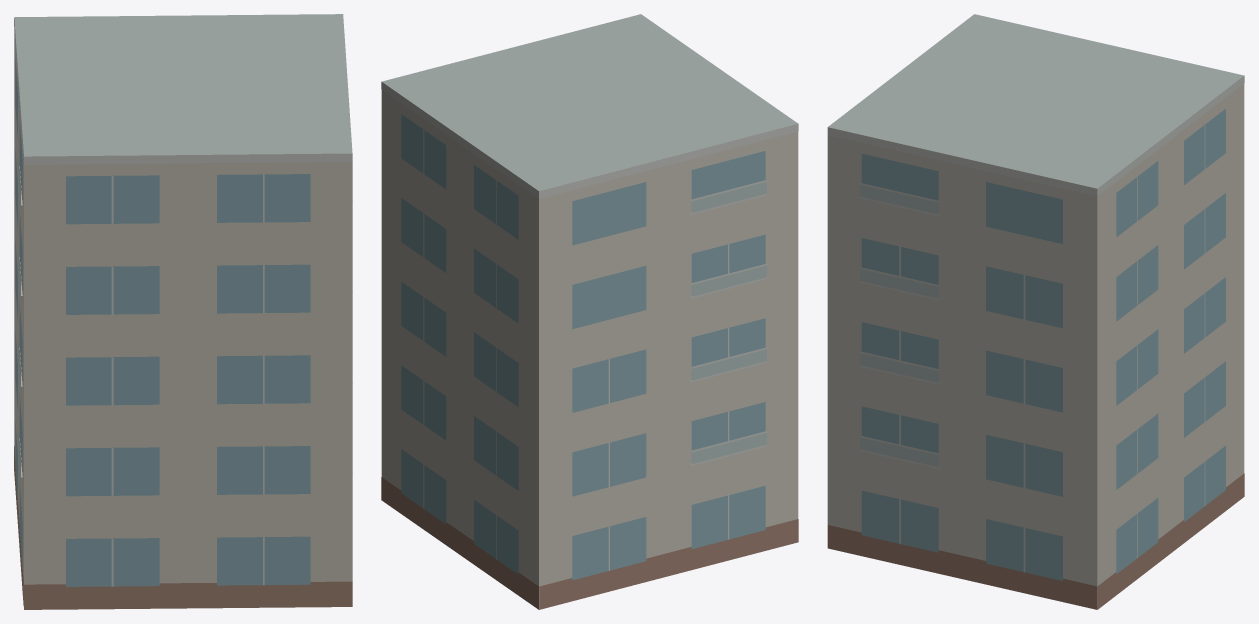
Rendered from survey-upis-32559281.glb.
3 views of the same model, side by side, from view 1: azimuth 30°, elevation 25°; view 2: azimuth 150°, elevation 25°; view 3: azimuth 270°, elevation 25° (orthographic). The views are drawn at different scales.
Parts seen in each view (by area): view 1: survey-upis-32559281.tmp; view 2: survey-upis-32559281.tmp; view 3: survey-upis-32559281.tmp.
Part boxes in pixels (x1=…): survey-upis-32559281.tmp: x1=14, y1=14, x2=352, y2=609; survey-upis-32559281.tmp: x1=381, y1=14, x2=798, y2=609; survey-upis-32559281.tmp: x1=827, y1=14, x2=1244, y2=609.
Size of the model in its own units: 11.89 by 13.35 by 11.98.
